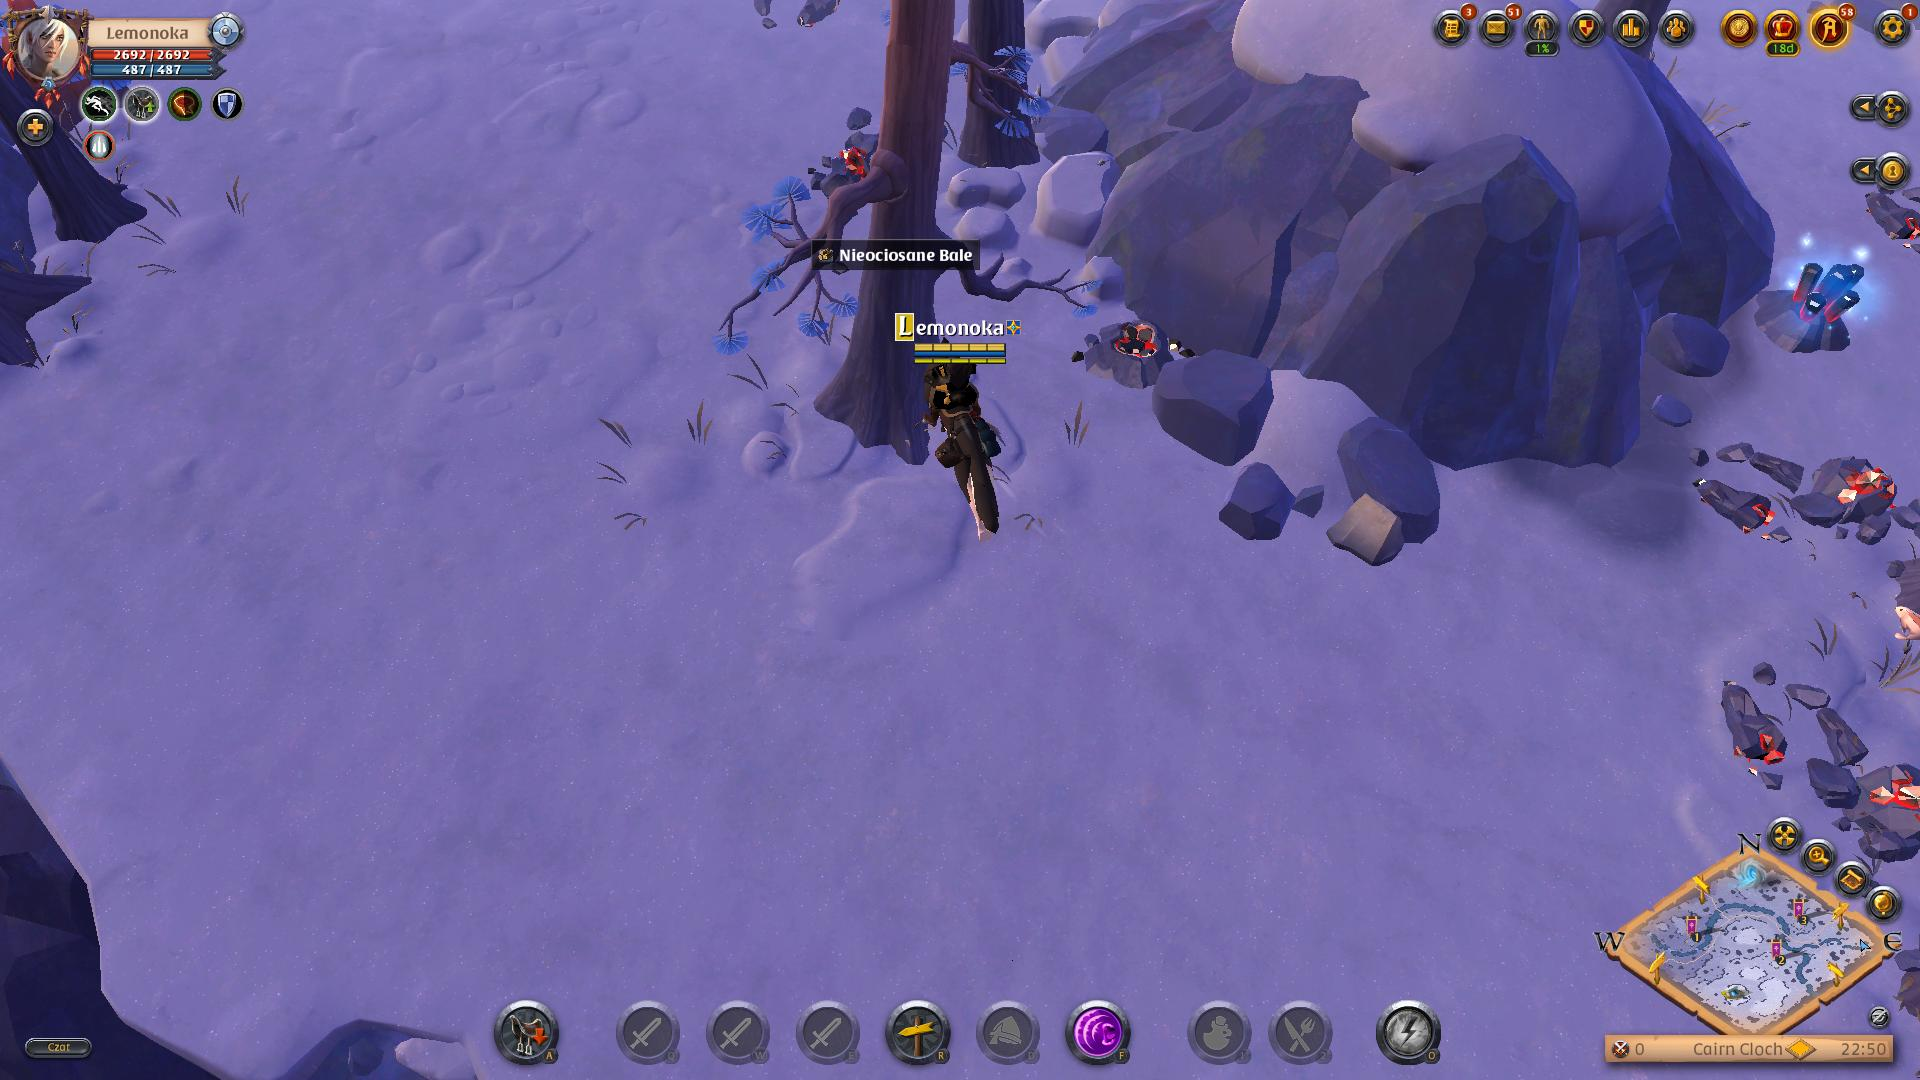ore tier 5: (1758, 252, 1862, 359)
rock tier 1: (1320, 479, 1431, 579)
